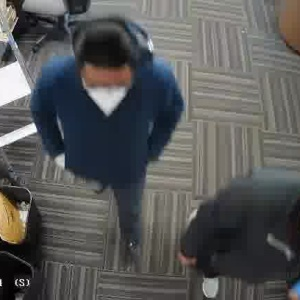person: (47, 19, 165, 255), (181, 181, 300, 291)
